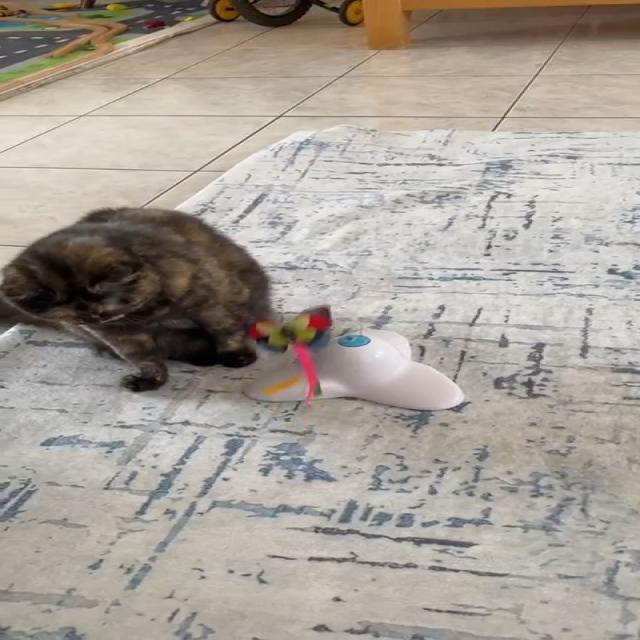authorized: (0, 205, 279, 392)
